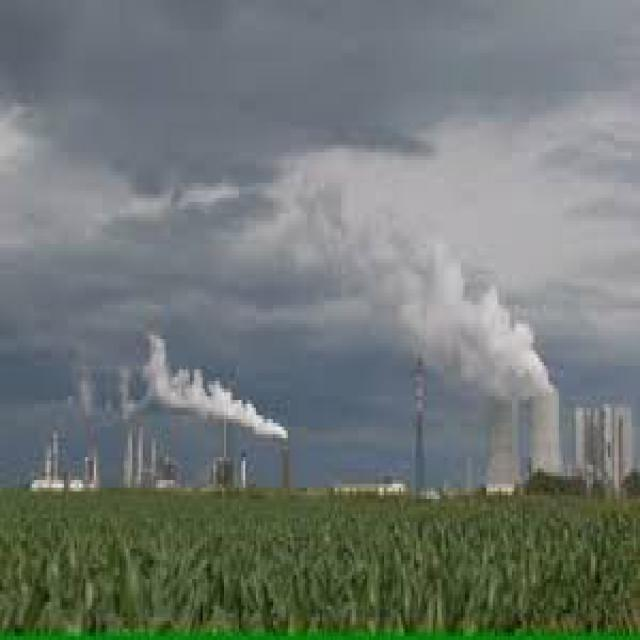Smoke: (327, 238, 565, 392), (81, 354, 306, 444)
